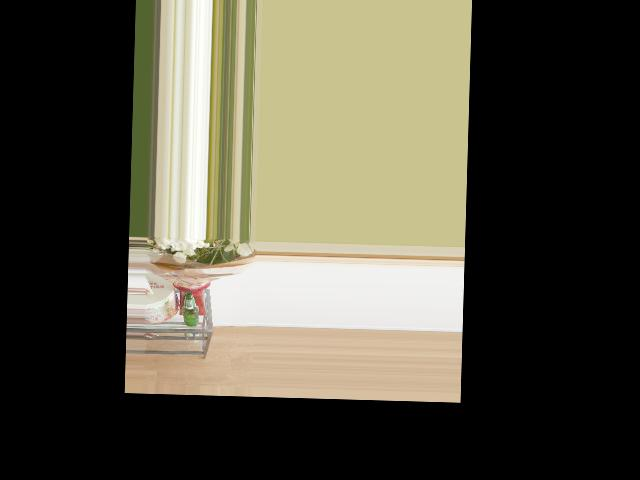beer: (180, 292, 199, 327)
